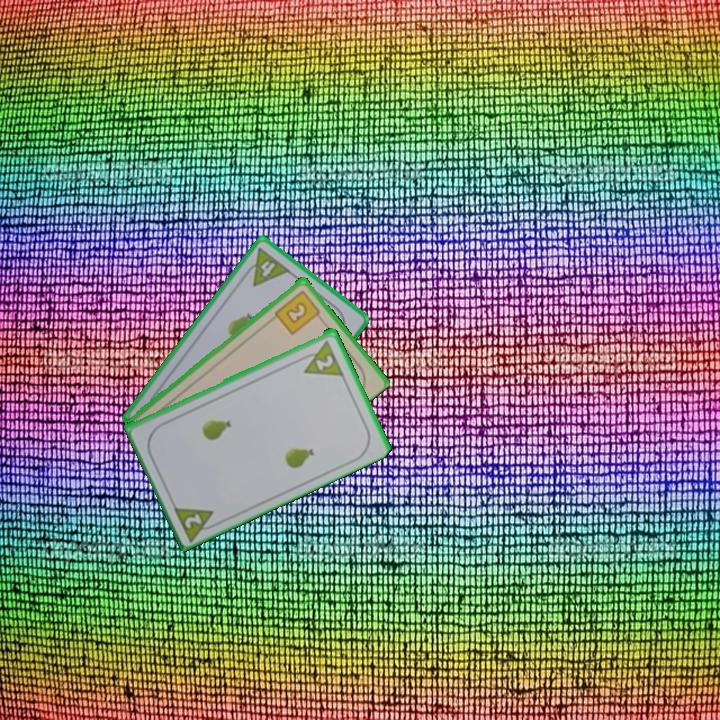2b: (271, 286, 325, 337)
2p: (295, 335, 346, 379), (170, 501, 223, 543)
4p: (239, 244, 293, 289)
